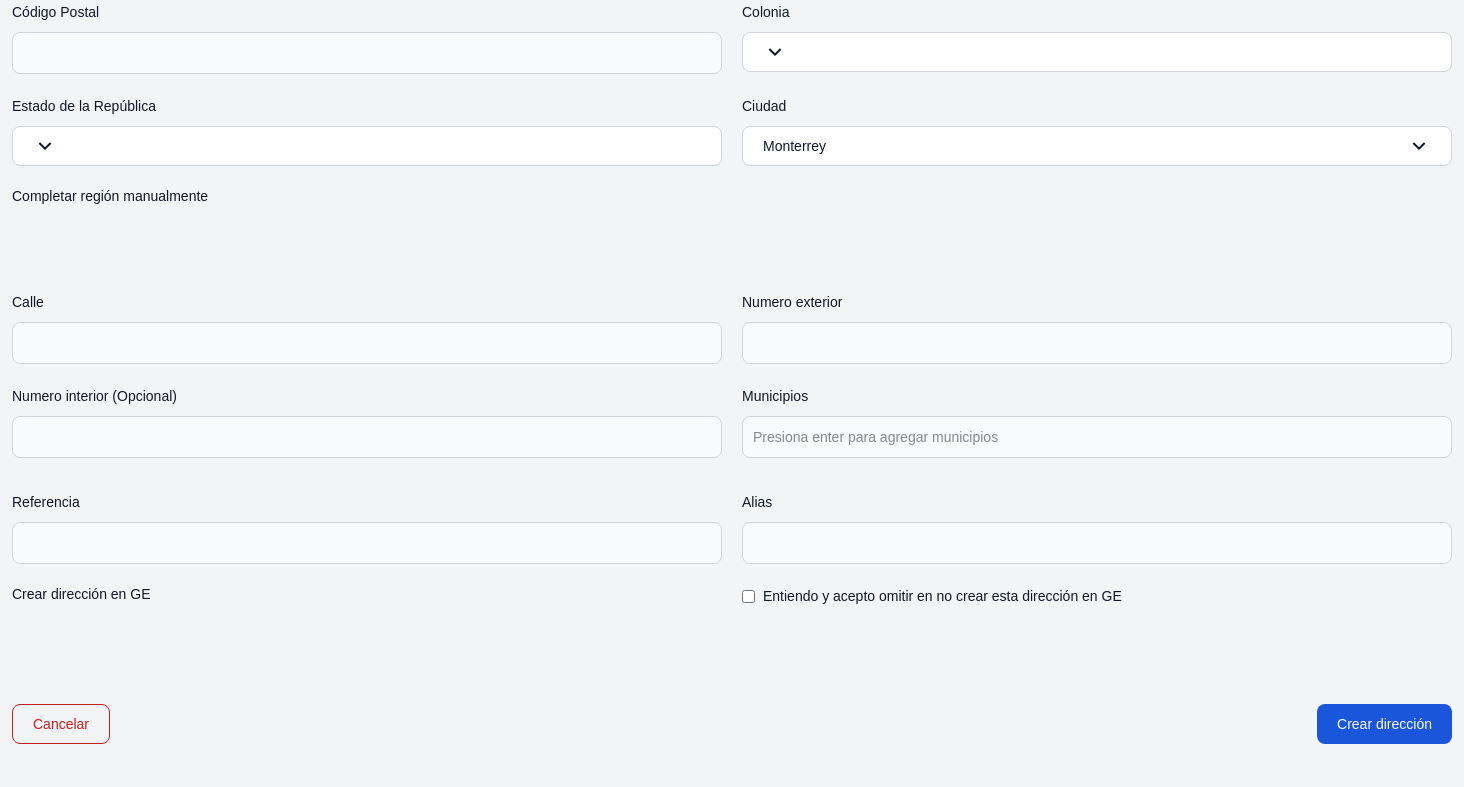
Feature: Create Address Subform › Scenario: User can add and remove cities tags in manual mode › Given a city tag exists, When the user removes it, Then it should disappear from the list
This screenshot has width=1464, height=787.
Click the switch labelled "Completar región manualmente" at x=110, y=198, box [12, 186, 208, 210]
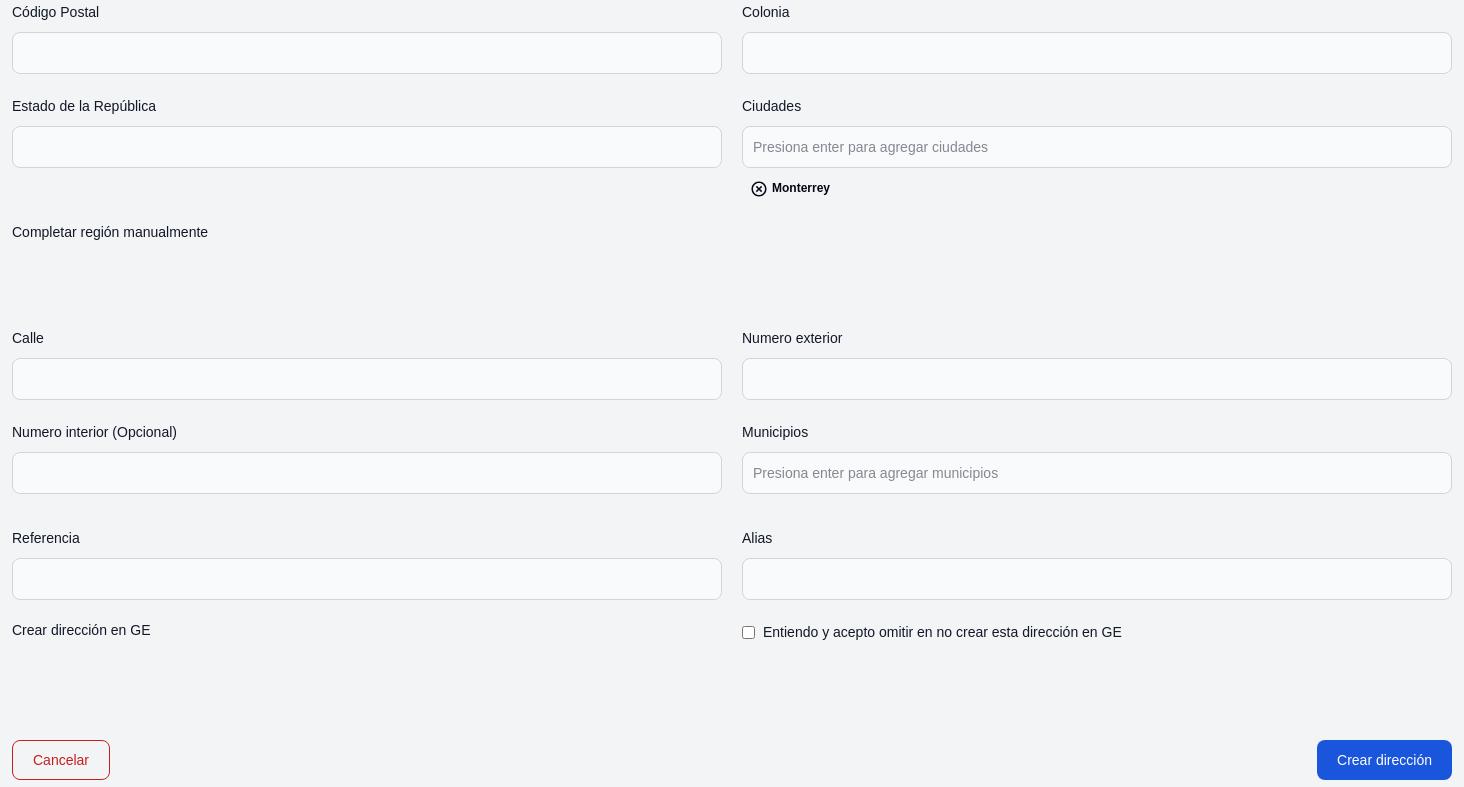
Expected: the text "Monterrey" is shown, [750, 180, 830, 198]
Expected: the 1st button is shown
Click the 1st button at x=759, y=189, box [750, 180, 768, 198]
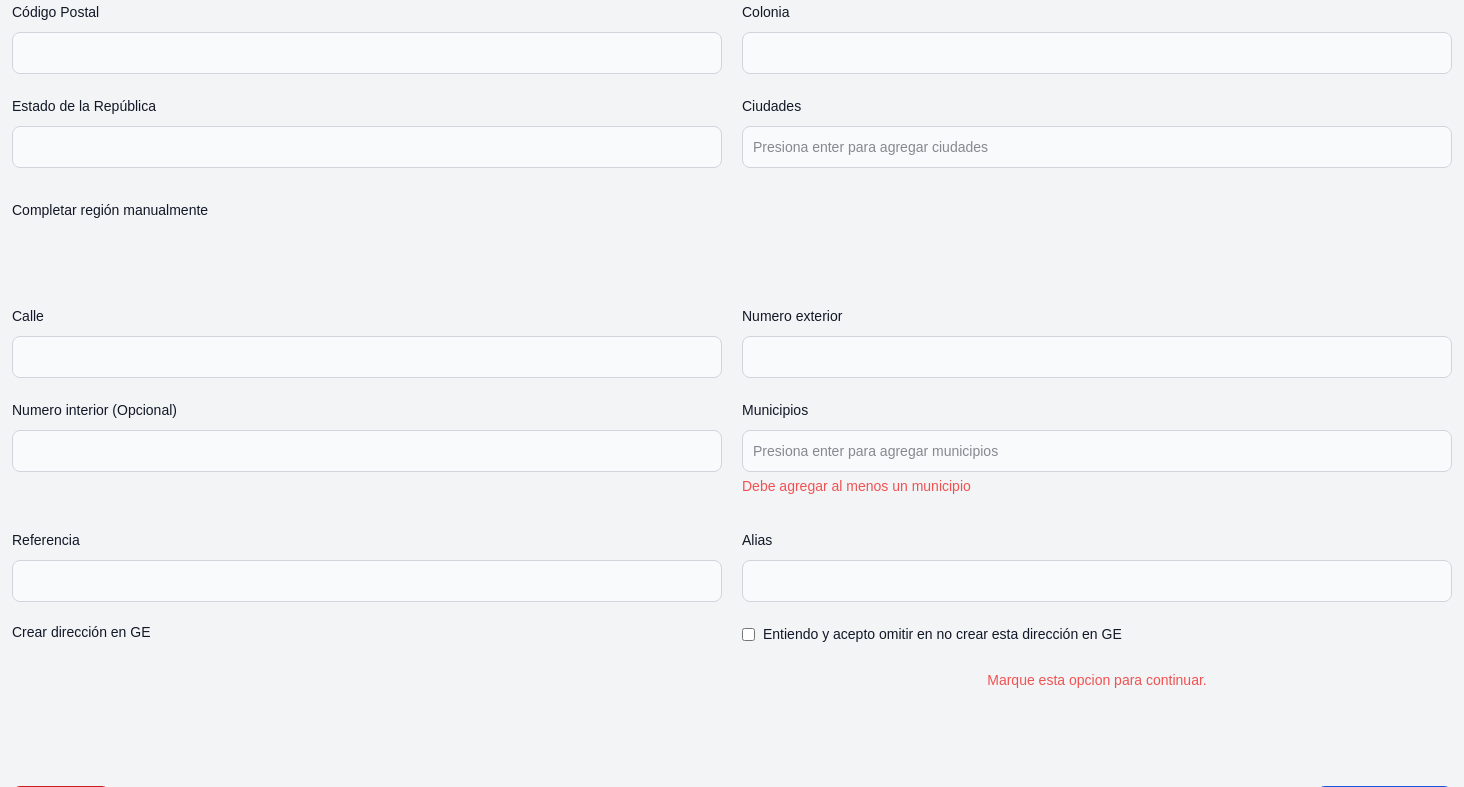
Expected: the text "Monterrey" is gone
